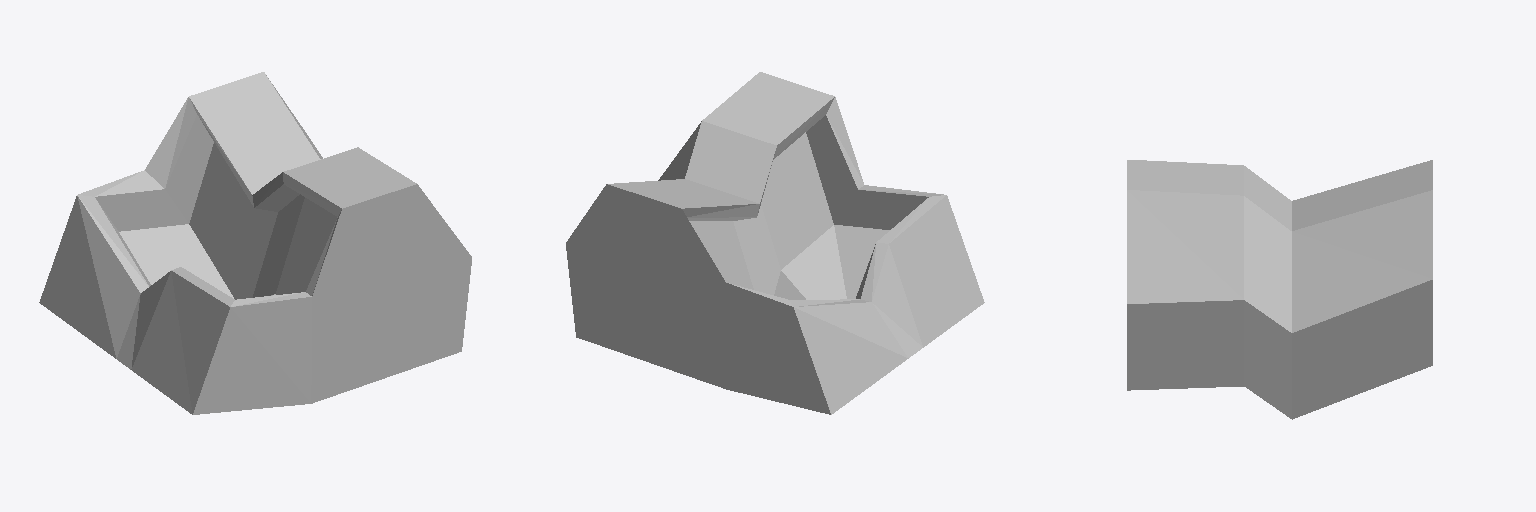
File: brokeniceshelf.obj
3 views of the same model, side by side, from view 1: azimuth 30°, elevation 25°; view 2: azimuth 150°, elevation 25°; view 3: azimuth 270°, elevation 25° (orthographic).
Visible parts, largest first — view 1: brokenIcecreamShelf_Cube.011; view 2: brokenIcecreamShelf_Cube.011; view 3: brokenIcecreamShelf_Cube.011.
Boxes of the visible parts, x1,y1,x2,y2 form: brokenIcecreamShelf_Cube.011: [39, 72, 471, 414]; brokenIcecreamShelf_Cube.011: [566, 72, 984, 414]; brokenIcecreamShelf_Cube.011: [1127, 160, 1432, 419].
Size of the model in its own units: 2.11 by 1.55 by 2.